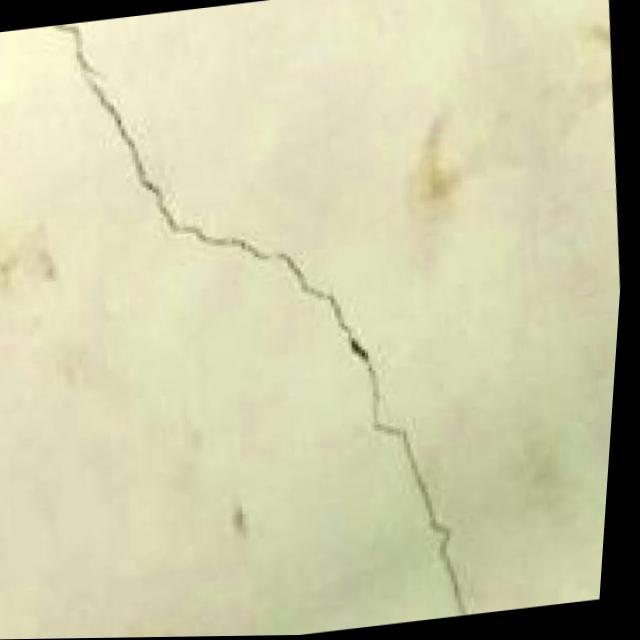Crack: (11, 0, 542, 639)
